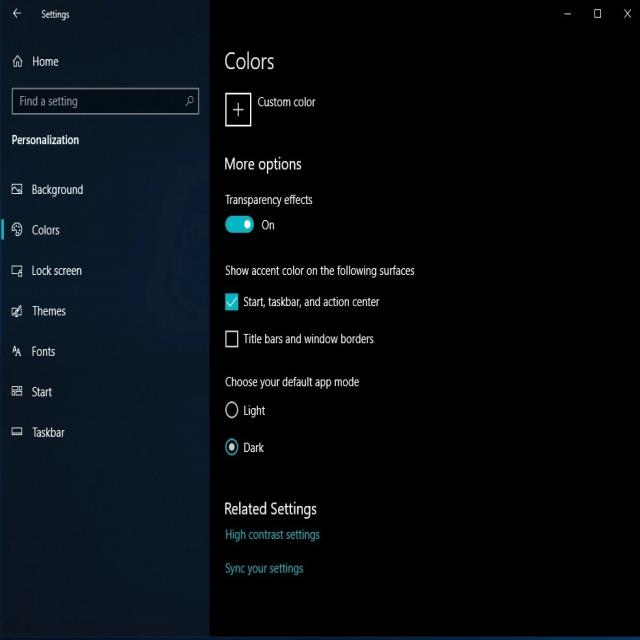button: (7, 411, 188, 452), (6, 290, 191, 327), (7, 331, 189, 367), (4, 173, 194, 207), (3, 213, 193, 247), (6, 374, 189, 409), (4, 252, 192, 285), (10, 51, 196, 77), (8, 124, 96, 158), (554, 0, 582, 26), (227, 94, 250, 125), (614, 0, 640, 26), (584, 0, 610, 25), (6, 0, 28, 27), (184, 94, 195, 108)
field: (13, 88, 198, 114), (226, 216, 253, 233), (224, 401, 240, 419), (225, 293, 239, 311), (225, 438, 239, 456), (226, 331, 237, 346)
